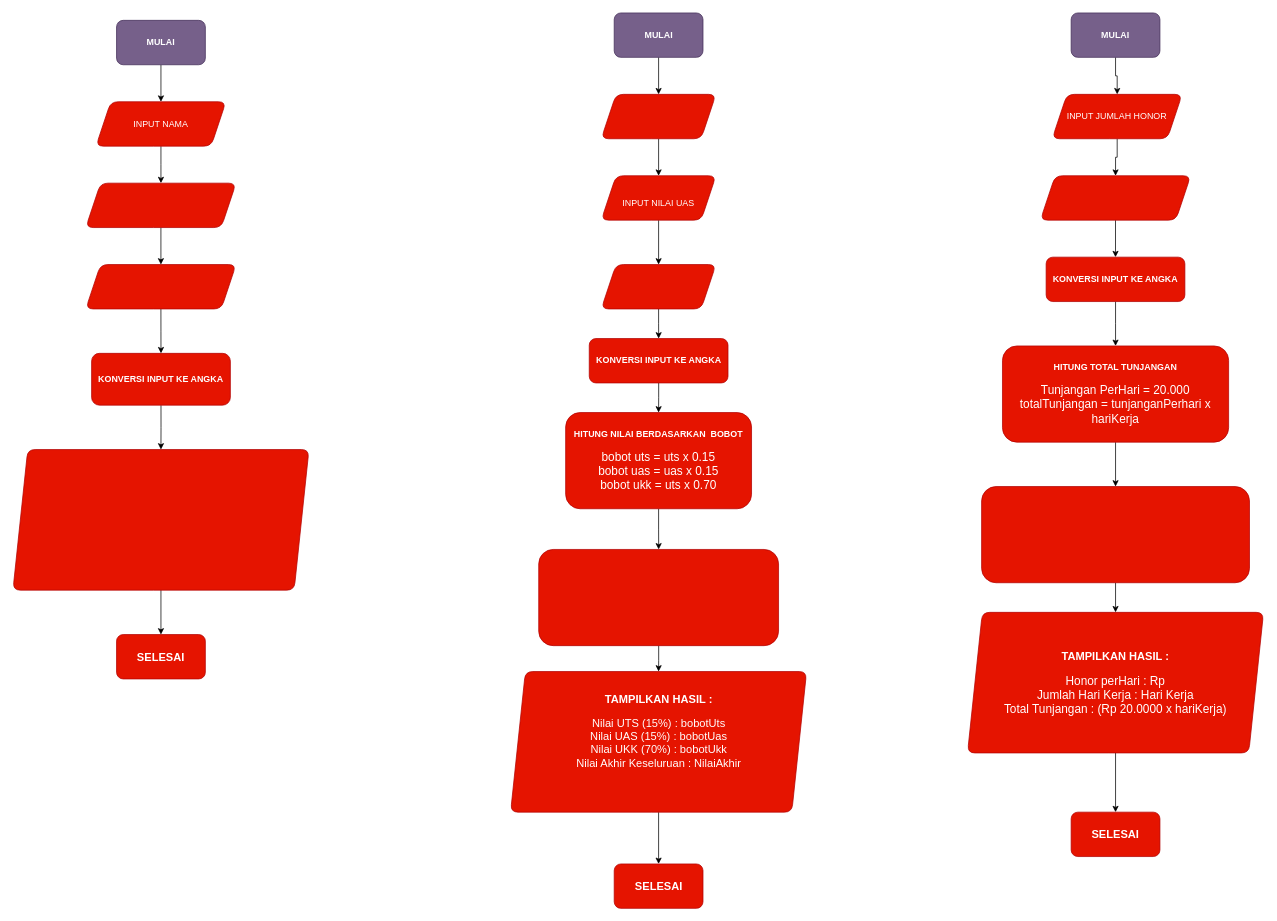
The diagram is 1277 pixels wide and 921 high, and some of its shapes have lost their labels. The centre of each missing label's shape, as x and y in pixels:
"HITUNG NILAI AKHIR KESELURUAN nilaiAkhir = bobotUts + bobotUas + bobotUkk" belongs at point 658,597.
"HITUNG TOTAL UPAH upah = (honor x hariKerja) + totalTunjangan" belongs at point 1115,534.
"INPUT JUMLAH HARI KERJA" belongs at point 1115,197.
"INPUT KOTA ASAL" belongs at point 160,286.
"INPUT NILAI UKK" belongs at point 658,286.
"INPUT NILAI UTS" belongs at point 658,116.
"INPUT USIA" belongs at point 160,205.
"TAMPILKAN HASIL : Nama : NamaAnda Usia : UsiaAnda Kota Asal : KotaAnda" belongs at point 160,519.
